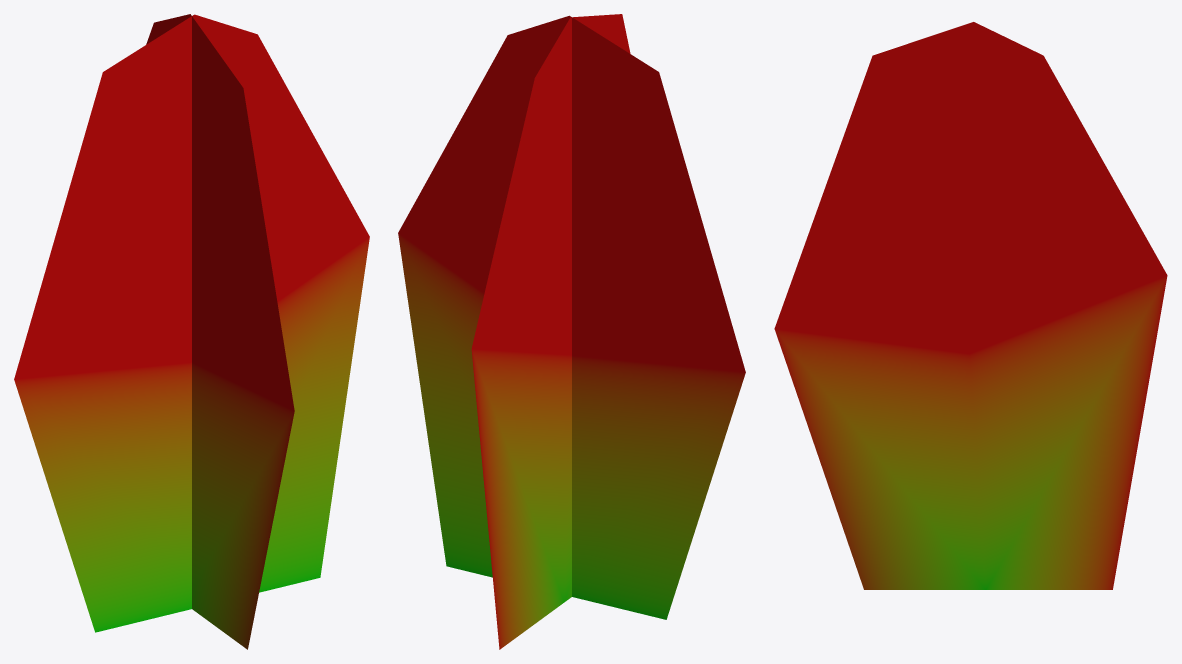
File: Kikuyu Grass_LOD6_Var10_wiljearqx.fbx
3 renders of one model, left to right at view 1: azimuth 30°, elevation 25°; view 2: azimuth 150°, elevation 25°; view 3: azimuth 270°, elevation 25°, orthographic. The views are drawn at different scales.
Parts seen in each view (by area): view 1: _gklg_Var10_LOD6; view 2: _gklg_Var10_LOD6; view 3: _gklg_Var10_LOD6.
Part boxes in pixels (x1,y1,x2,y2): _gklg_Var10_LOD6: (14, 14, 369, 649); _gklg_Var10_LOD6: (398, 14, 745, 649); _gklg_Var10_LOD6: (774, 22, 1167, 589).
Bounding box in the file's own units: 35.61 × 56.8 × 35.61.
